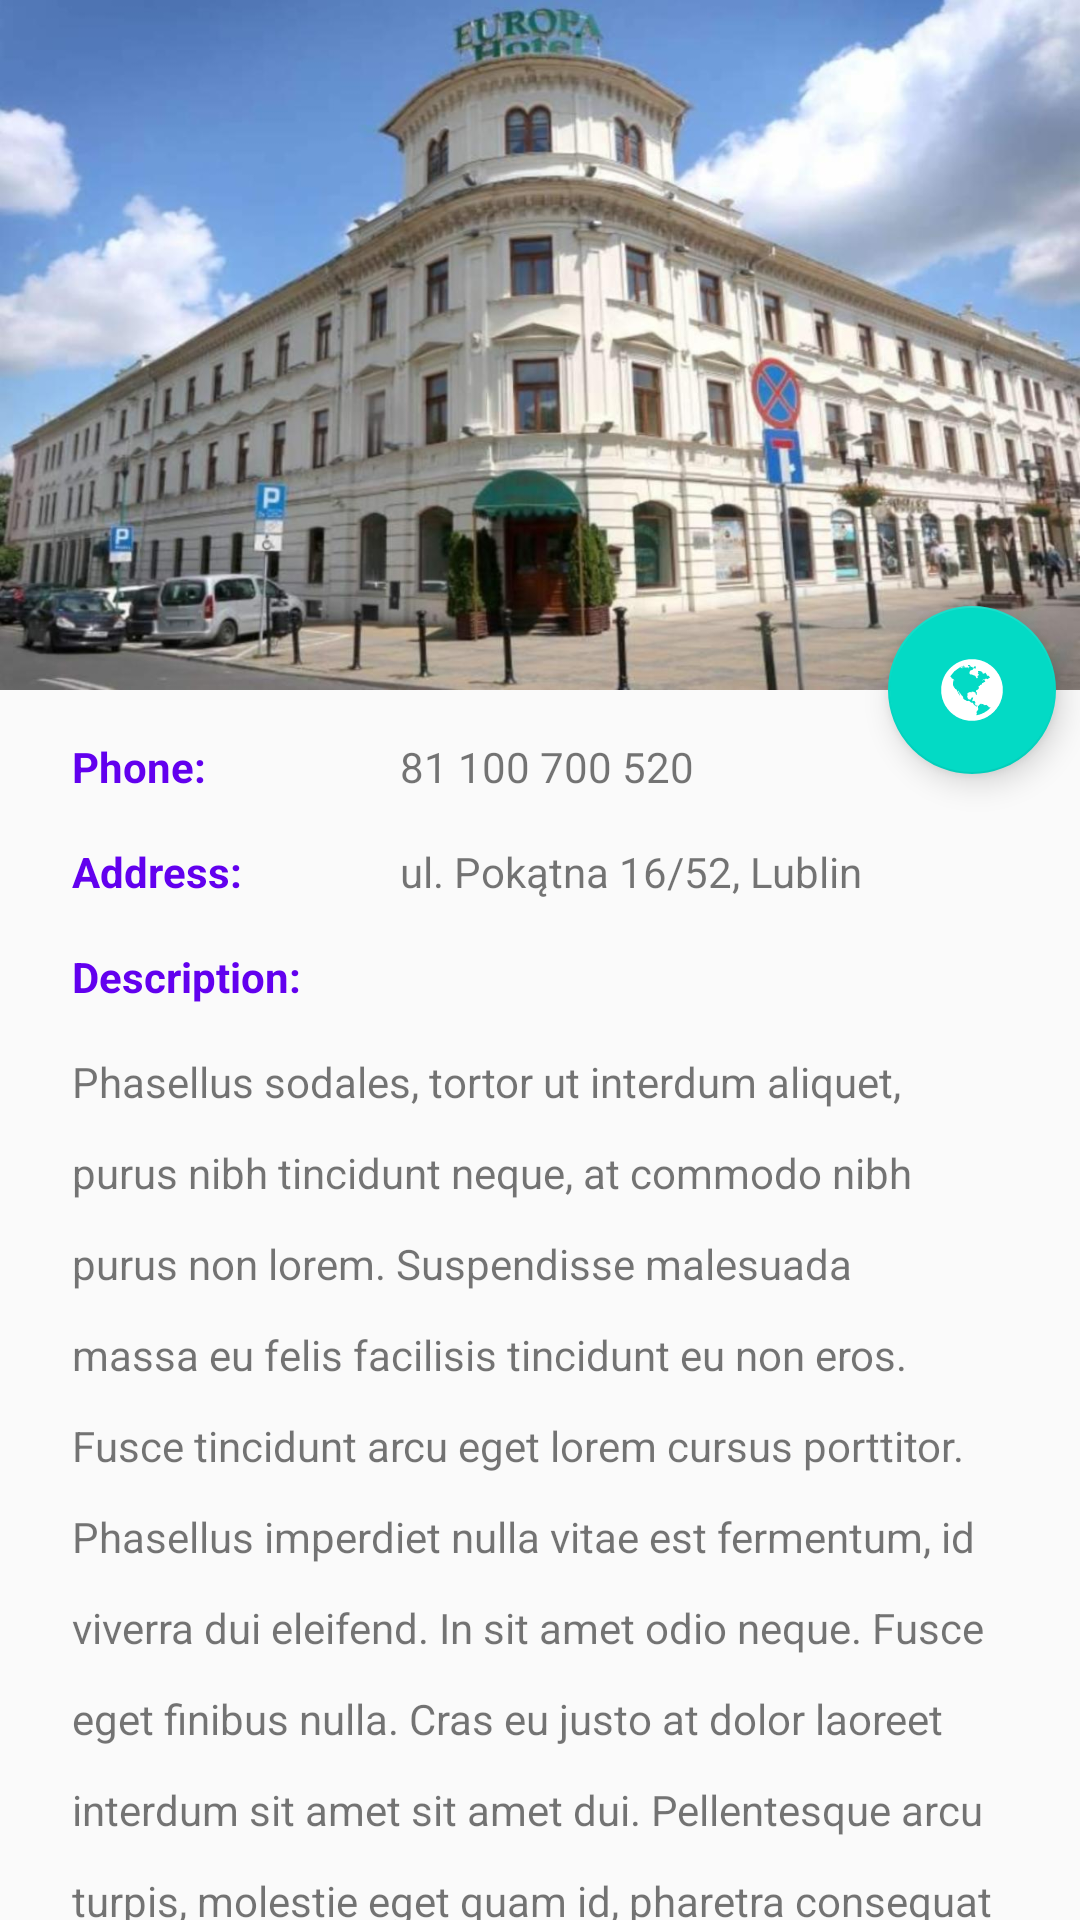

Icons on this 1080 x 1920 Android screen, each with the point to tap as point (x, y):
if globe: point (972, 690)
